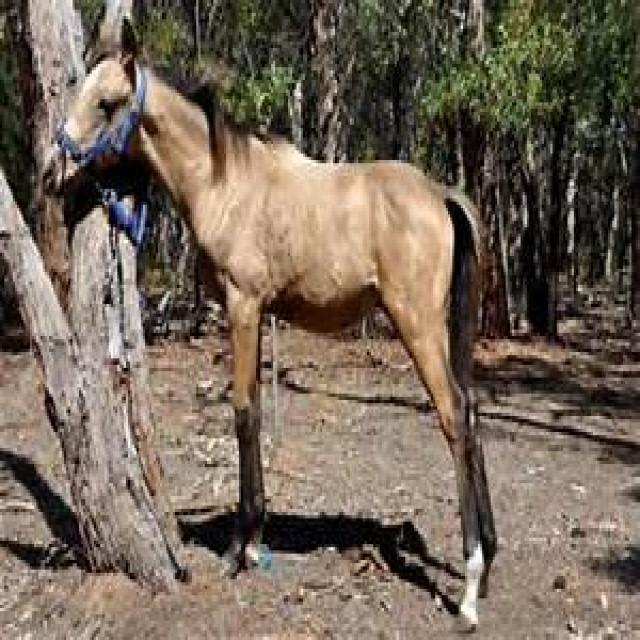horse: (35, 42, 550, 624)
